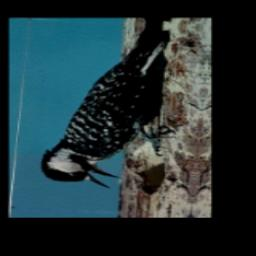Woodpecker: (32, 20, 188, 195)
